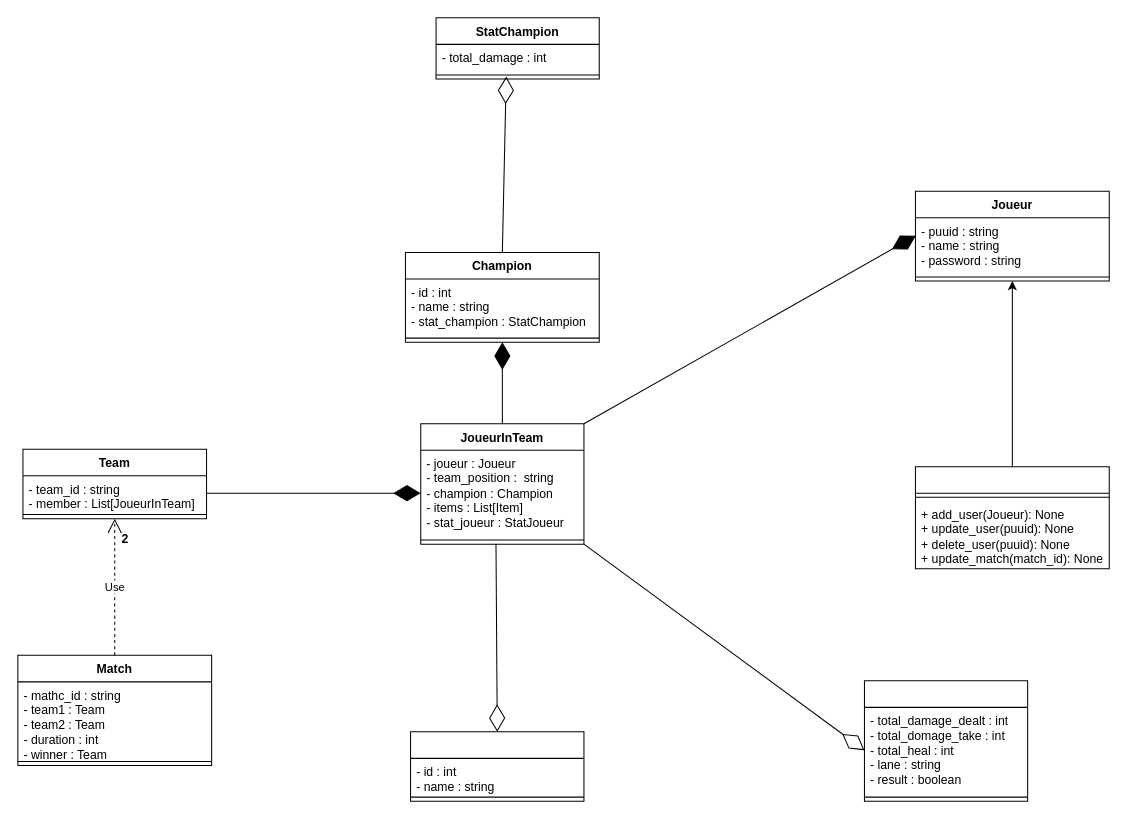
The diagram is 1127 pixels wide and 819 high, and some of its shapes have lost their labels. Here are the shapes that lost their labels. From the top down, the box of each, then its label:
(914, 466, 1109, 569): Admin
(863, 680, 1028, 801): StatJoueur
(410, 731, 584, 801): Item
